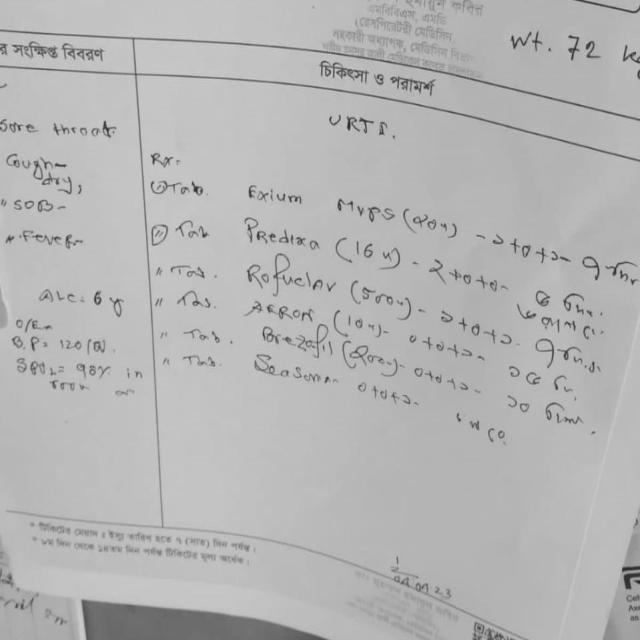medicine: (244, 177, 401, 222), (252, 351, 344, 392), (244, 257, 340, 295), (242, 217, 322, 256), (256, 322, 336, 353), (244, 296, 318, 322)
